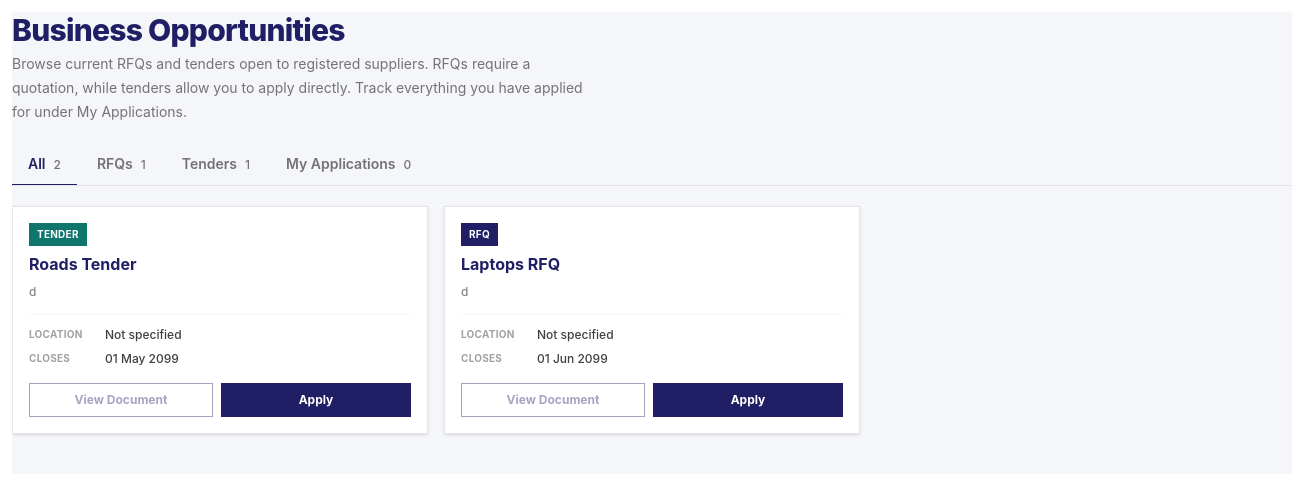
Scenario: Opportunities page › tender apply › shows error on failure and keeps Apply available
Expected: the heading "Roads Tender" is shown, 29,254 -> 136,274
Click the button "Apply" below "01 May 2099". click: [316, 400]
box: 221,383 -> 411,417
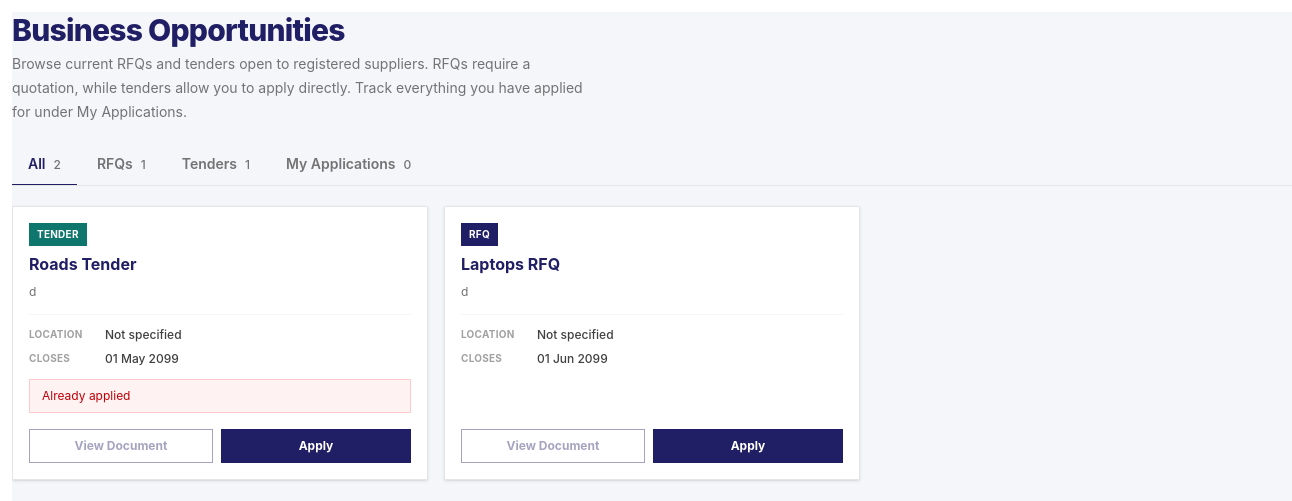
Expected: the button "Apply" below "Already applied" is shown, 221,429 -> 411,463
Now the message reads "Already applied", box 42,388 -> 130,403
